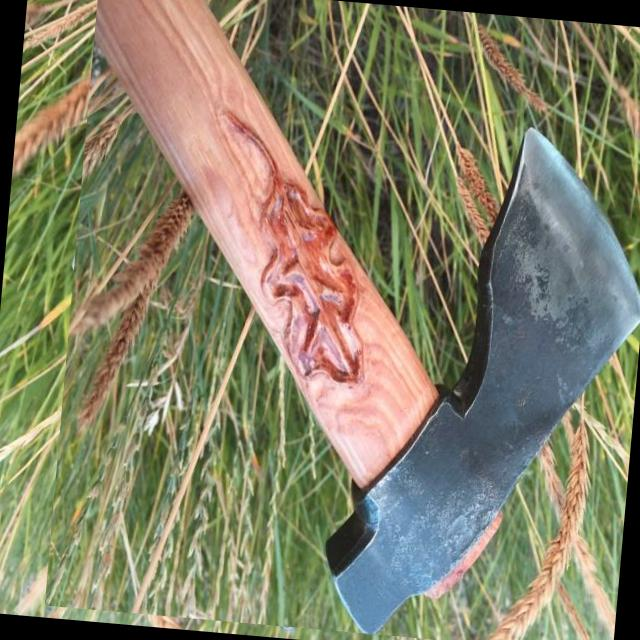Axe: (94, 0, 640, 634)
